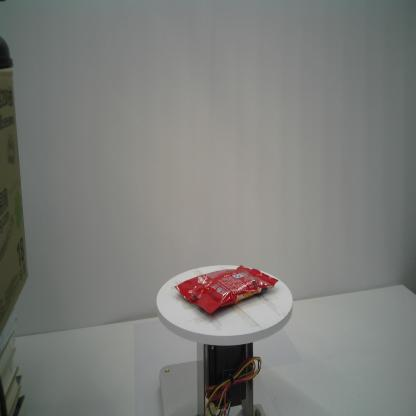Instant Drink: (173, 264, 279, 314)
